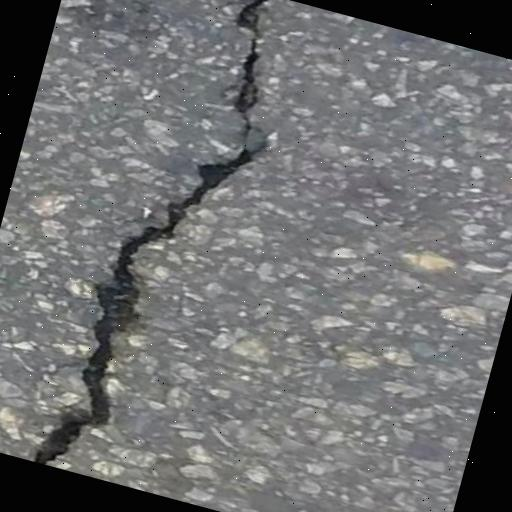spalling: (19, 0, 281, 466)
